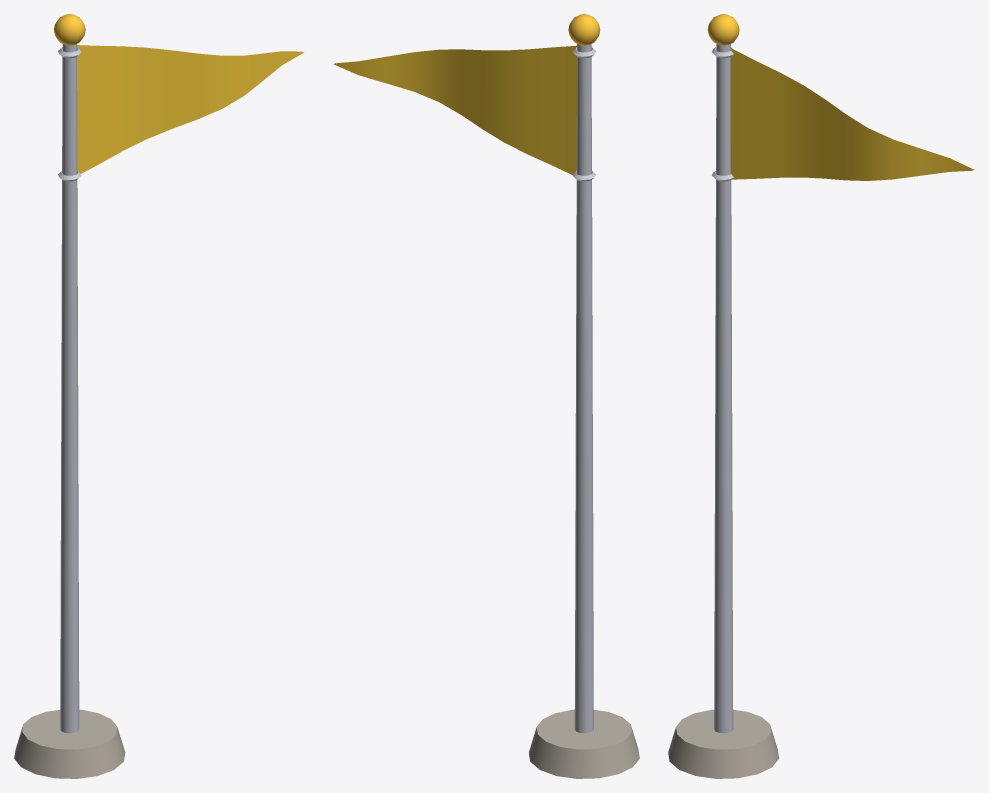
The model's file is flag_pole.glb.
3 views of the same model, side by side, from view 1: azimuth 30°, elevation 25°; view 2: azimuth 150°, elevation 25°; view 3: azimuth 330°, elevation 25° (orthographic).
Visible parts, largest first — view 1: flag_pole; view 2: flag_pole; view 3: flag_pole.
Boxes of the visible parts, left/top/right/bottom form: flag_pole: left=14, top=14, right=303, bottom=778; flag_pole: left=333, top=14, right=639, bottom=778; flag_pole: left=668, top=14, right=974, bottom=778.
Size of the model in its own units: 2.1 by 5.1 by 0.7.
